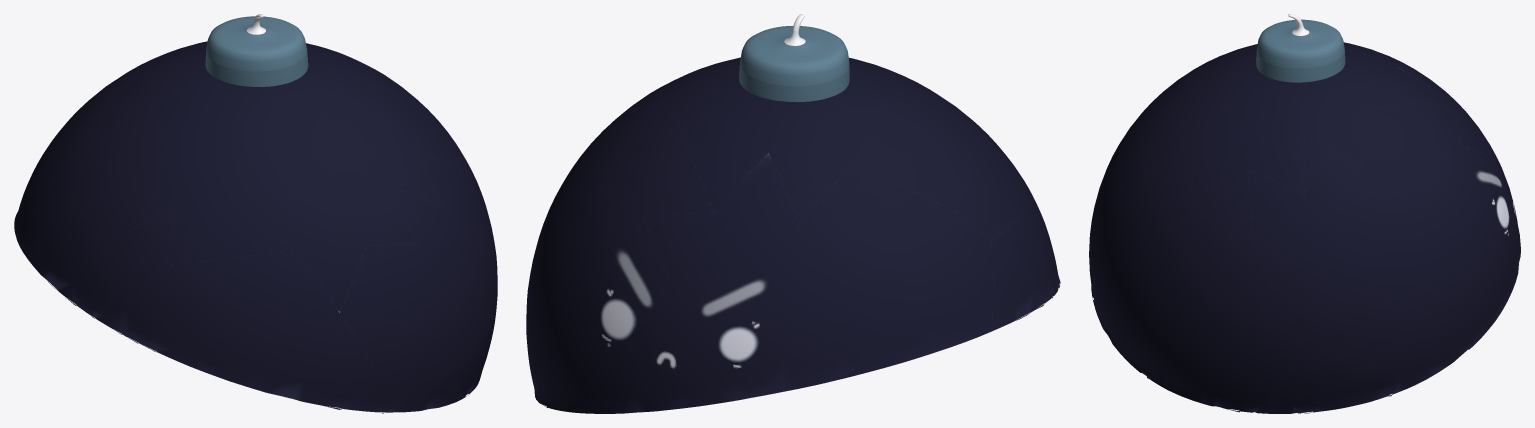
Rendered from bomb1.fbx.
3 renders of one model, left to right at view 1: azimuth 30°, elevation 25°; view 2: azimuth 150°, elevation 25°; view 3: azimuth 270°, elevation 25°, orthographic. The views are drawn at different scales.
Parts seen in each view (by area): view 1: corps.002; view 2: corps.002; view 3: corps.002.
Boxes of the visible parts, bbox=[...] form: corps.002: bbox=[14, 14, 497, 413]; corps.002: bbox=[526, 14, 1060, 413]; corps.002: bbox=[1089, 14, 1520, 413].
Size of the model in its own units: 77.33 by 64 by 78.43.
